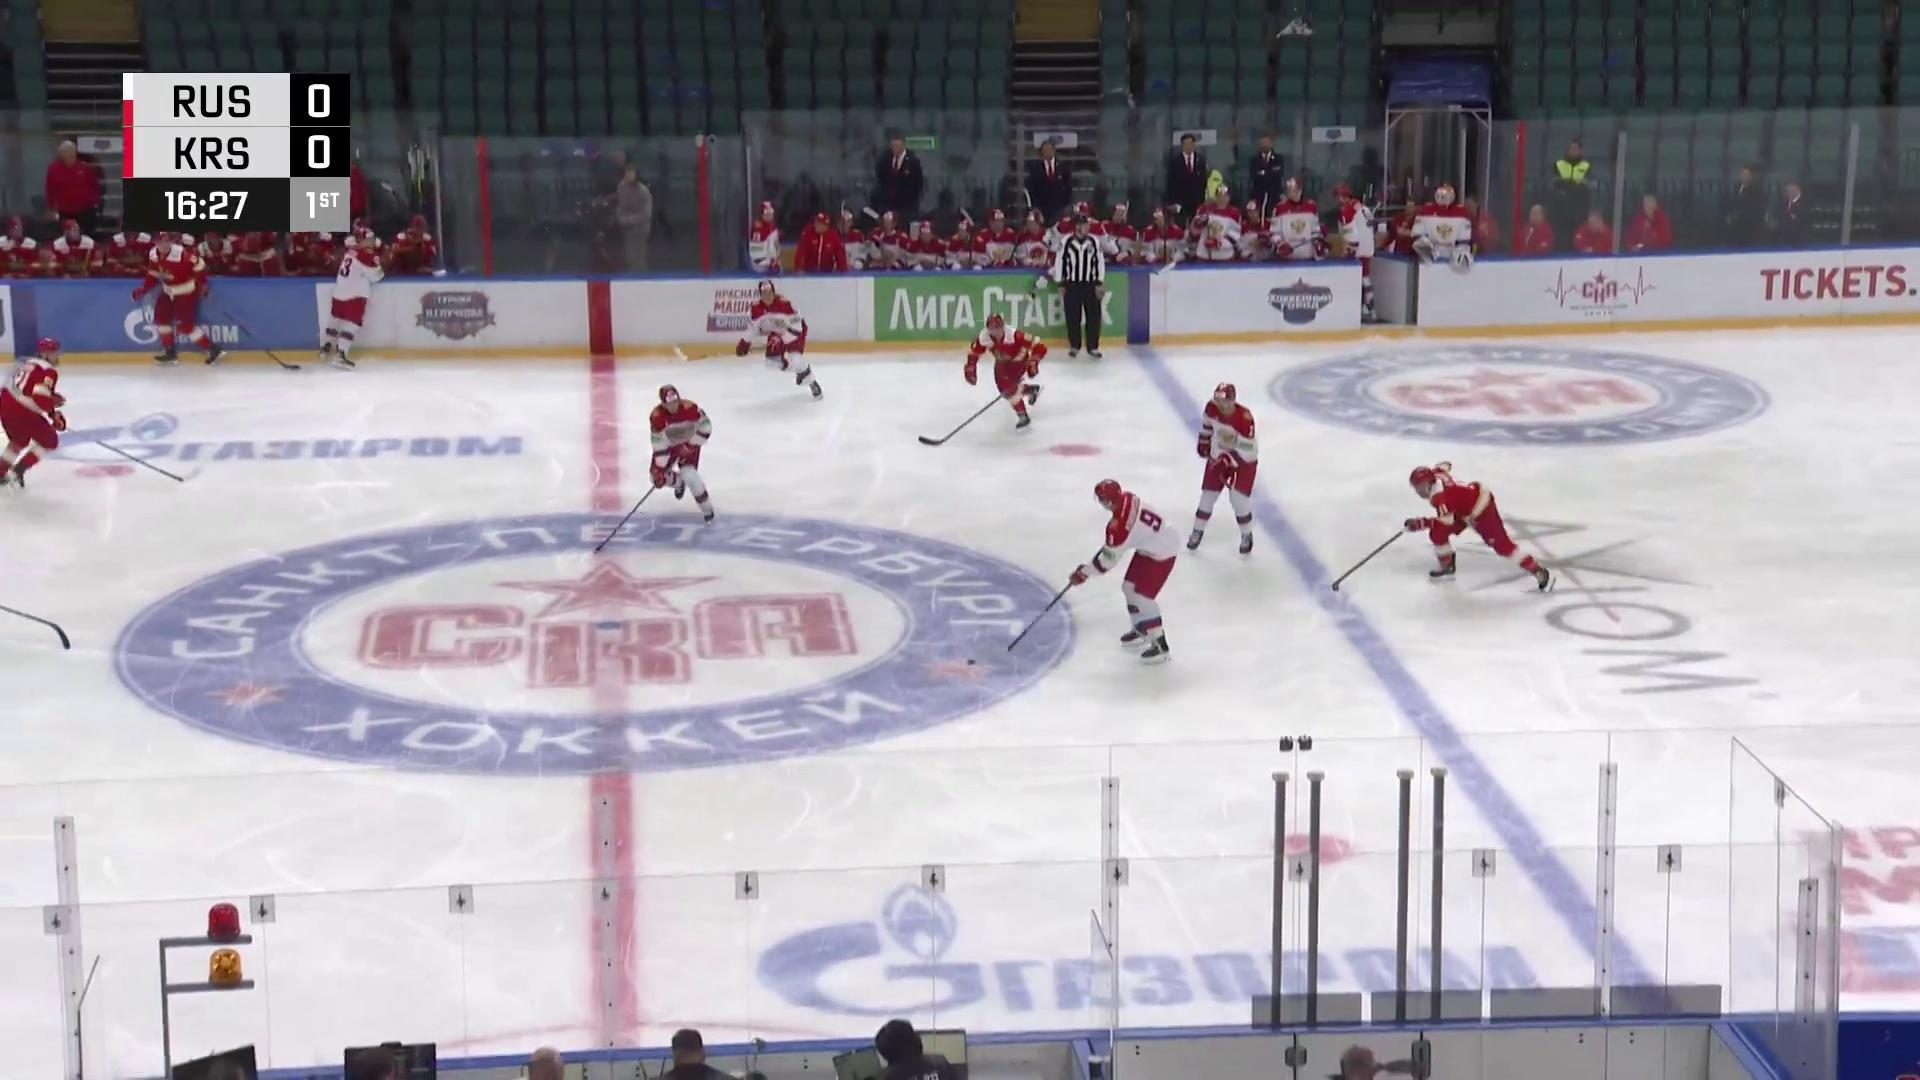ball: (967, 658, 978, 667)
